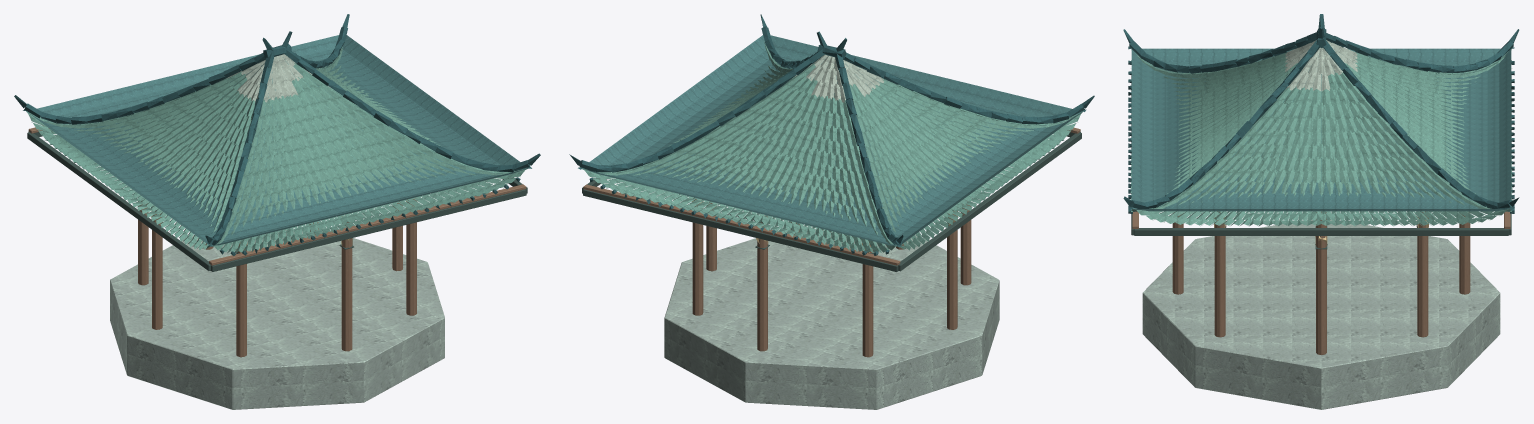
Rendered from reference-public_models_places-low_dicuiting.glb.
The picture shows the model from 3 angles, left to right: view 1: azimuth 30°, elevation 25°; view 2: azimuth 150°, elevation 25°; view 3: azimuth 270°, elevation 25°; orthographic projection. The views are drawn at different scales.
Visible parts, largest first — view 1: r15_dicuiting_Sunwen_r18_pavilion_stone.001, r15_dicuiting_Sunwen_r18_pavilion_tile.001, r15_dicuiting_Sunwen_r18_pavilion_roof.001, r15_dicuiting_Sunwen_r18_pavilion_wood.001, r15_dicuiting_Sunwen_r18_pavilion_tiledark.001, r15_dicuiting_Sunwen_r18_pavilion_darkwood.001, r15_dicuiting_Sunwen_r18_pavilion_tilelight.001; view 2: r15_dicuiting_Sunwen_r18_pavilion_stone.001, r15_dicuiting_Sunwen_r18_pavilion_tile.001, r15_dicuiting_Sunwen_r18_pavilion_roof.001, r15_dicuiting_Sunwen_r18_pavilion_wood.001, r15_dicuiting_Sunwen_r18_pavilion_tiledark.001, r15_dicuiting_Sunwen_r18_pavilion_darkwood.001, r15_dicuiting_Sunwen_r18_pavilion_tilelight.001; view 3: r15_dicuiting_Sunwen_r18_pavilion_stone.001, r15_dicuiting_Sunwen_r18_pavilion_tile.001, r15_dicuiting_Sunwen_r18_pavilion_roof.001, r15_dicuiting_Sunwen_r18_pavilion_tiledark.001, r15_dicuiting_Sunwen_r18_pavilion_wood.001, r15_dicuiting_Sunwen_r18_pavilion_darkwood.001, r15_dicuiting_Sunwen_r18_pavilion_tilelight.001.
Part boxes in pixels (bbox=[...]): r15_dicuiting_Sunwen_r18_pavilion_stone.001: bbox=[110, 228, 444, 409]; r15_dicuiting_Sunwen_r18_pavilion_tile.001: bbox=[26, 46, 527, 253]; r15_dicuiting_Sunwen_r18_pavilion_roof.001: bbox=[26, 35, 527, 246]; r15_dicuiting_Sunwen_r18_pavilion_wood.001: bbox=[28, 127, 526, 357]; r15_dicuiting_Sunwen_r18_pavilion_tiledark.001: bbox=[14, 14, 540, 255]; r15_dicuiting_Sunwen_r18_pavilion_darkwood.001: bbox=[27, 131, 527, 271]; r15_dicuiting_Sunwen_r18_pavilion_tilelight.001: bbox=[226, 54, 330, 103]; r15_dicuiting_Sunwen_r18_pavilion_stone.001: bbox=[664, 228, 999, 409]; r15_dicuiting_Sunwen_r18_pavilion_tile.001: bbox=[582, 41, 1082, 253]; r15_dicuiting_Sunwen_r18_pavilion_roof.001: bbox=[582, 35, 1082, 246]; r15_dicuiting_Sunwen_r18_pavilion_wood.001: bbox=[583, 127, 1080, 357]; r15_dicuiting_Sunwen_r18_pavilion_tiledark.001: bbox=[569, 14, 1094, 255]; r15_dicuiting_Sunwen_r18_pavilion_darkwood.001: bbox=[582, 132, 1081, 271]; r15_dicuiting_Sunwen_r18_pavilion_tilelight.001: bbox=[795, 54, 884, 102]; r15_dicuiting_Sunwen_r18_pavilion_stone.001: bbox=[1142, 219, 1500, 409]; r15_dicuiting_Sunwen_r18_pavilion_tile.001: bbox=[1130, 46, 1512, 226]; r15_dicuiting_Sunwen_r18_pavilion_roof.001: bbox=[1131, 48, 1511, 211]; r15_dicuiting_Sunwen_r18_pavilion_tiledark.001: bbox=[1123, 14, 1519, 213]; r15_dicuiting_Sunwen_r18_pavilion_wood.001: bbox=[1132, 211, 1510, 354]; r15_dicuiting_Sunwen_r18_pavilion_darkwood.001: bbox=[1131, 75, 1511, 249]; r15_dicuiting_Sunwen_r18_pavilion_tilelight.001: bbox=[1285, 40, 1357, 91].
Bounding box in the file's own units: 11.15 × 9.68 × 11.07.
9 materials, 8 textured.
